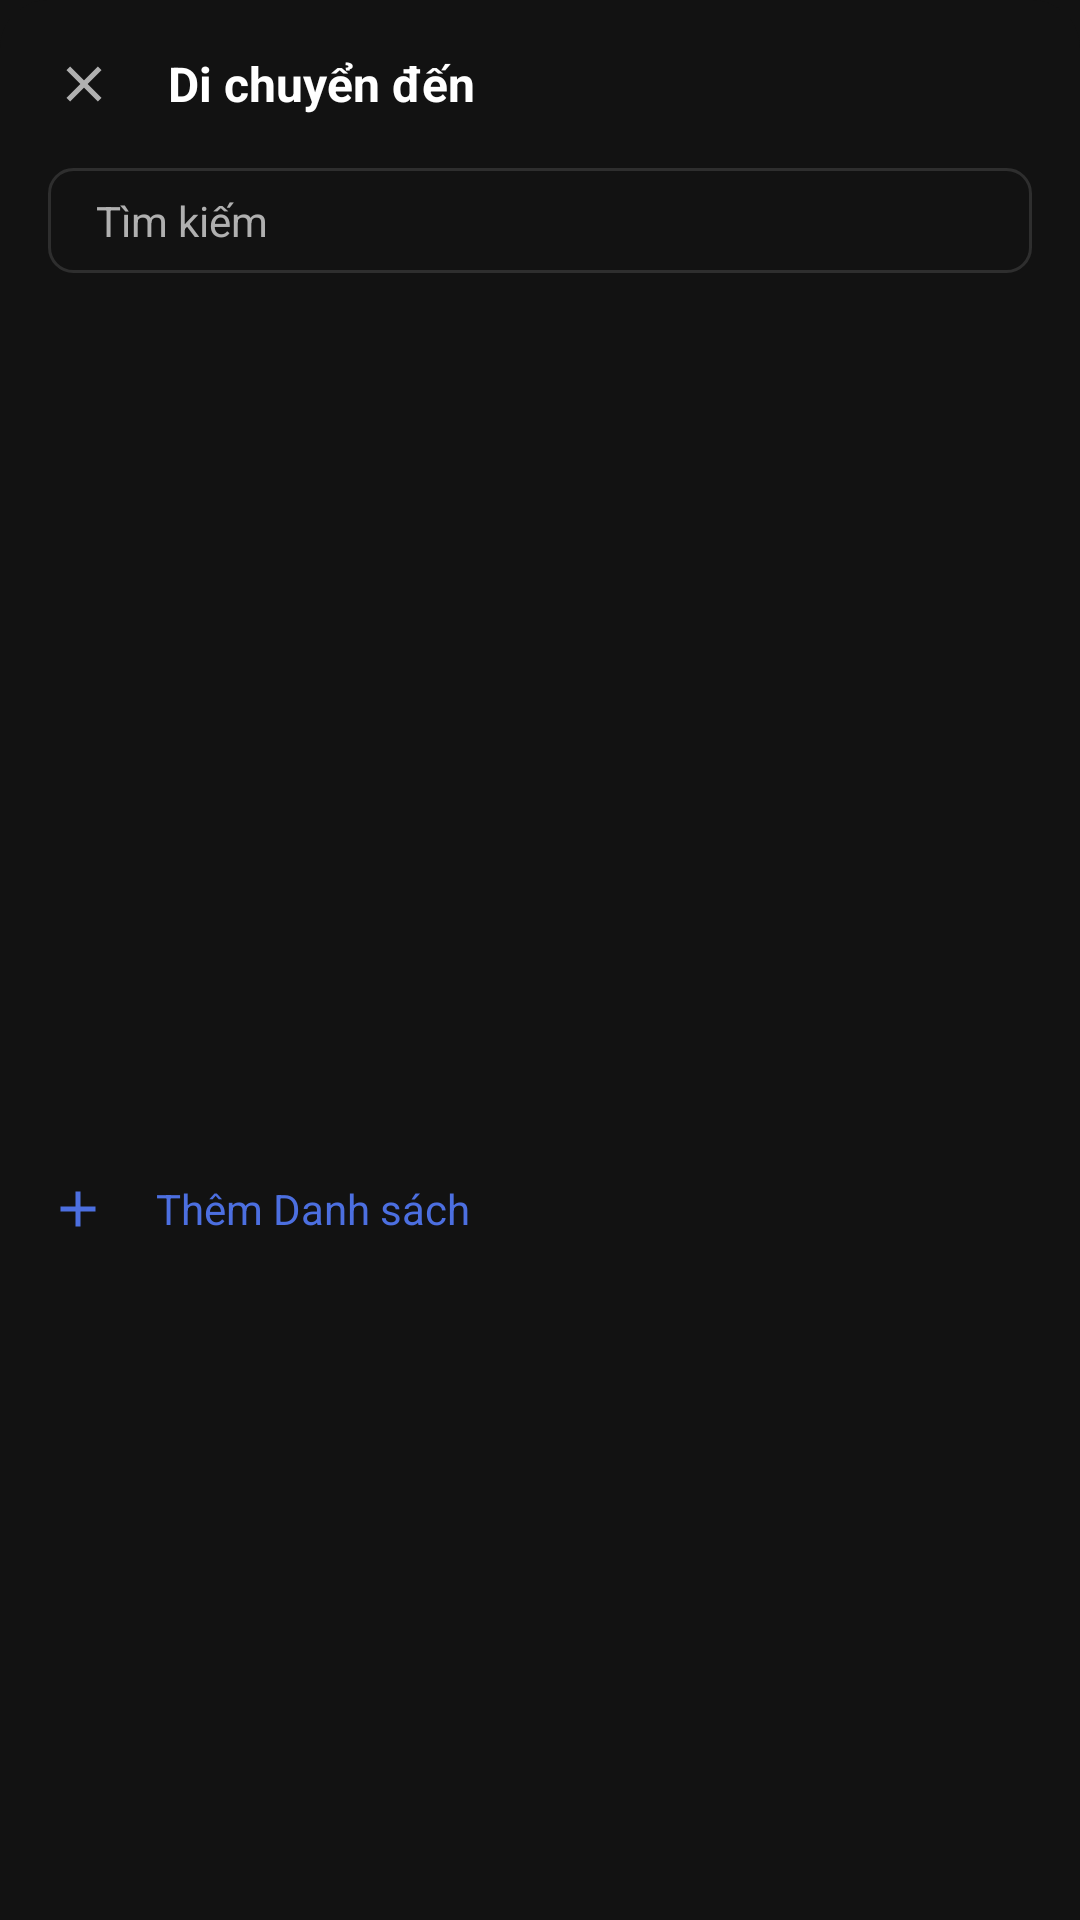

Named icons in this screenshot (1080x1920) and their bounding boxes, BBox(x1, y1, x2, y2):
add list: BBox(60, 1191, 96, 1227)
close: BBox(66, 66, 102, 102)
